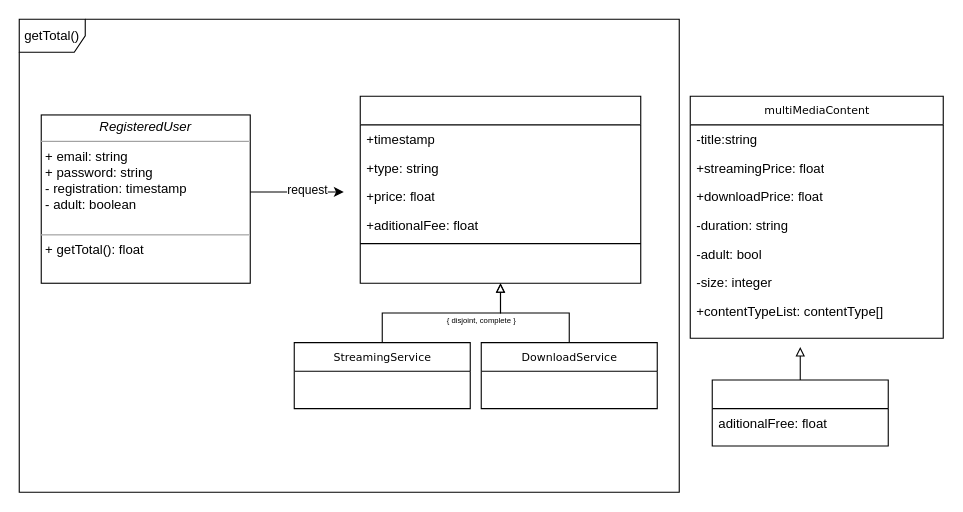
The diagram is 963 pixels wide and 512 high, and some of its shapes have lost their labels. Here are the shapes that lost their labels. From the top down, the box of each, then its label:
(359, 95, 641, 283): Service
(711, 379, 888, 446): Premium
